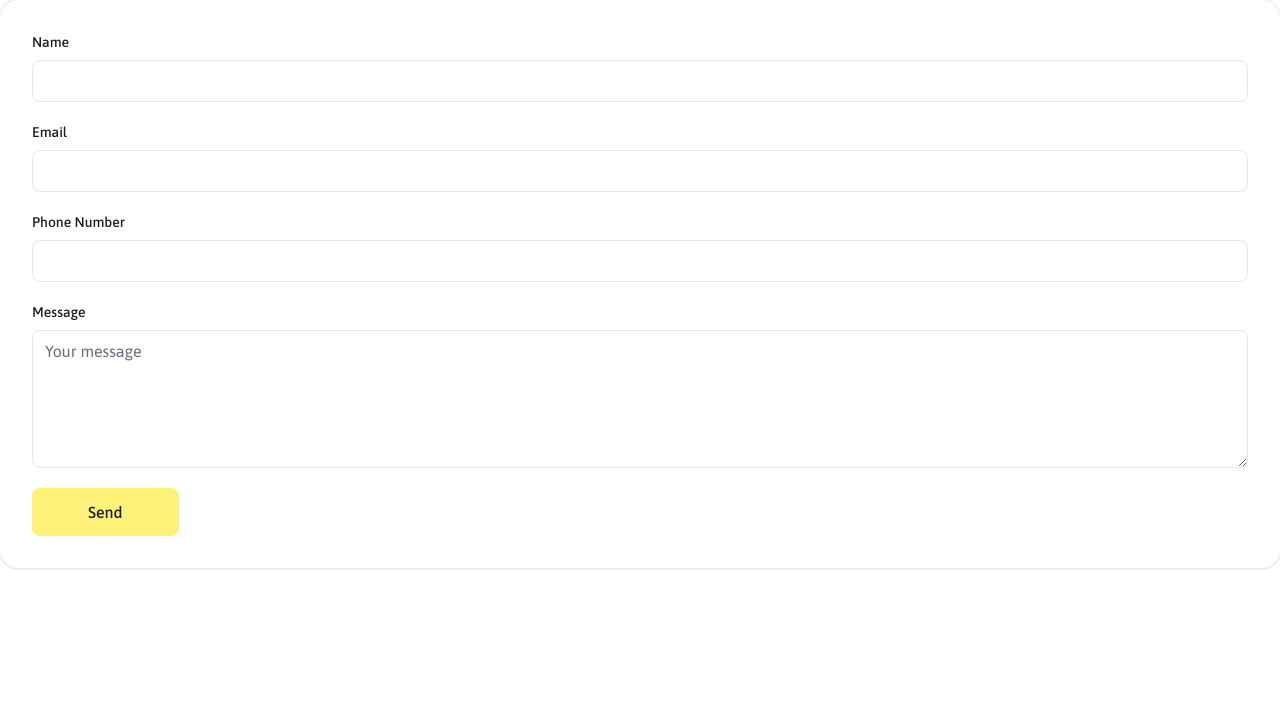
Scenario: ContactForm › shows an error message when the API returns ok:false
The width and height of the screenshot is (1280, 720).
Type "Jane Doe" into the field labelled "Name" at (640, 81), box [32,60,1248,102]
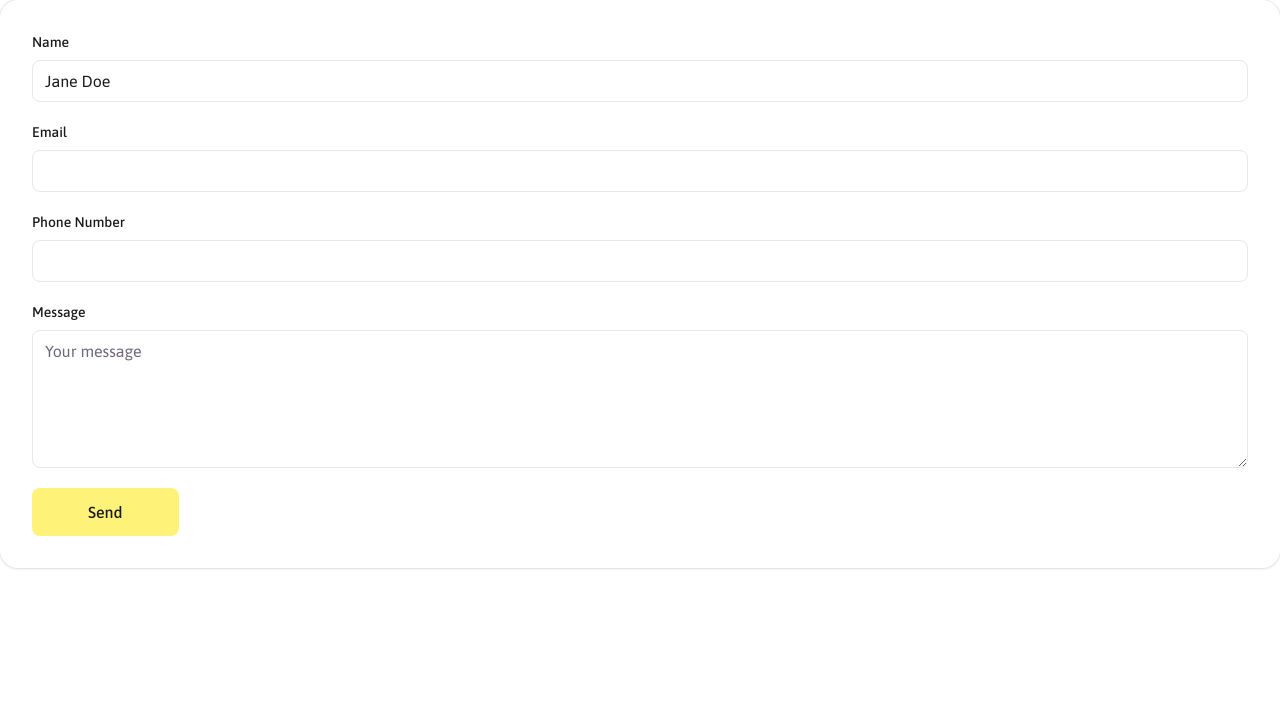
Type "jane@example.com" into the field labelled "Email" at (640, 171), box [32,150,1248,192]
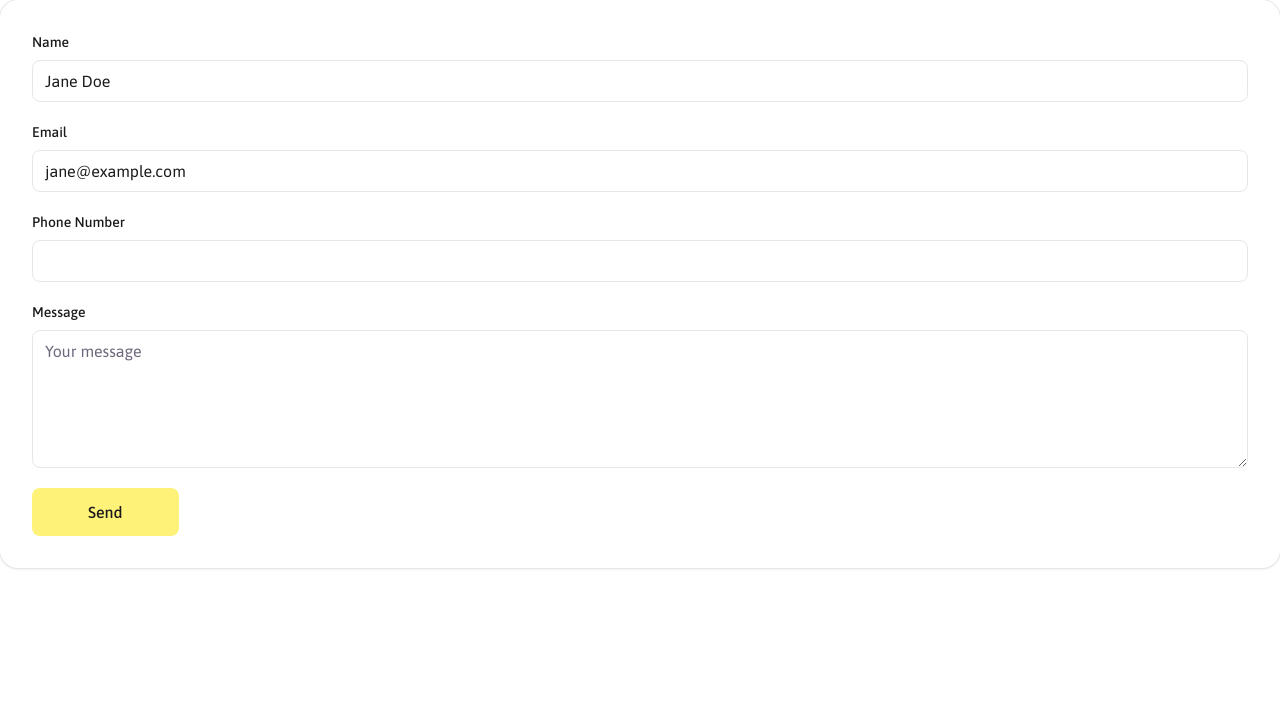
Type "07123456789" into the field labelled "Phone Number" at (640, 261), box [32,240,1248,282]
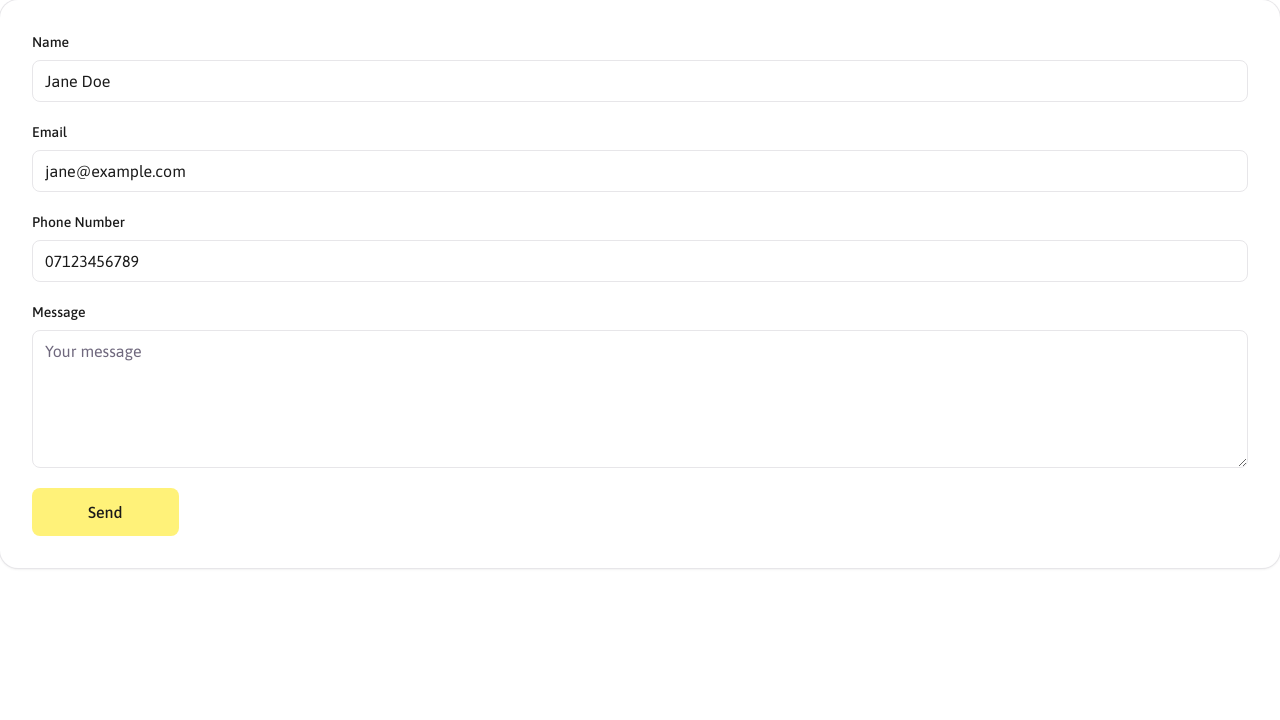
Type "Hello there" into the text box labelled "Message" at (640, 399), box [32,330,1248,468]
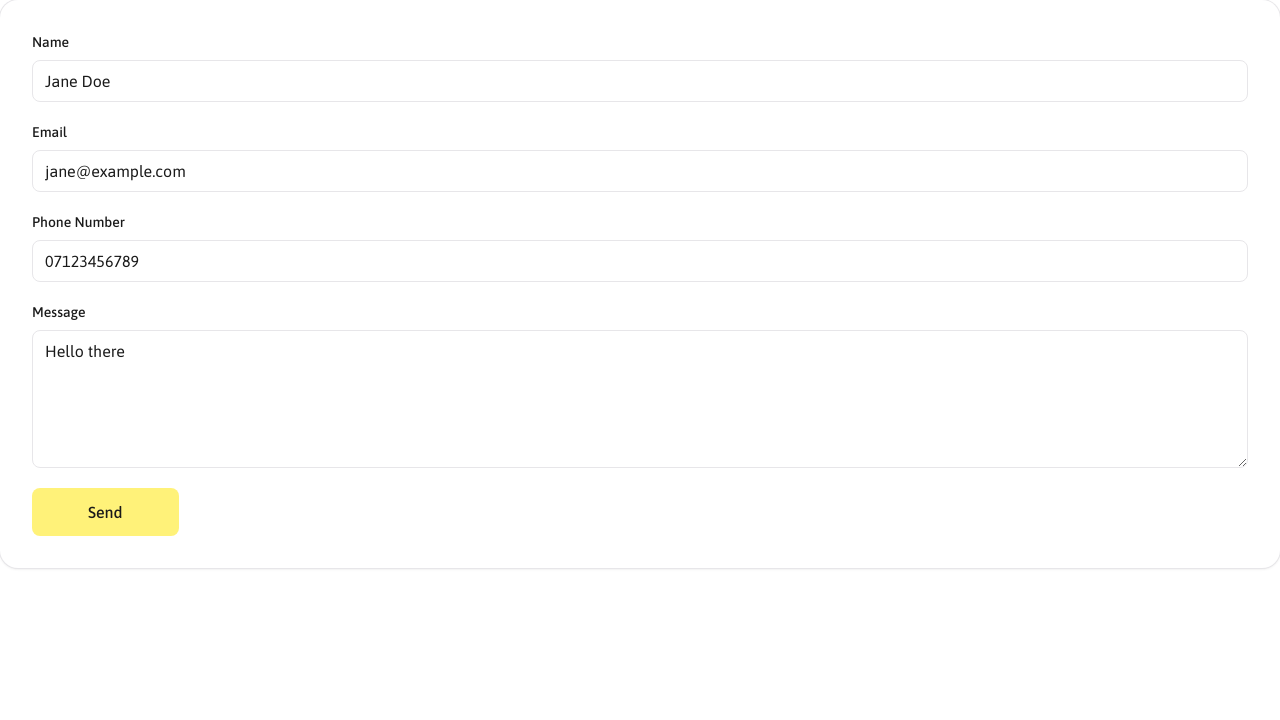
Submit the form
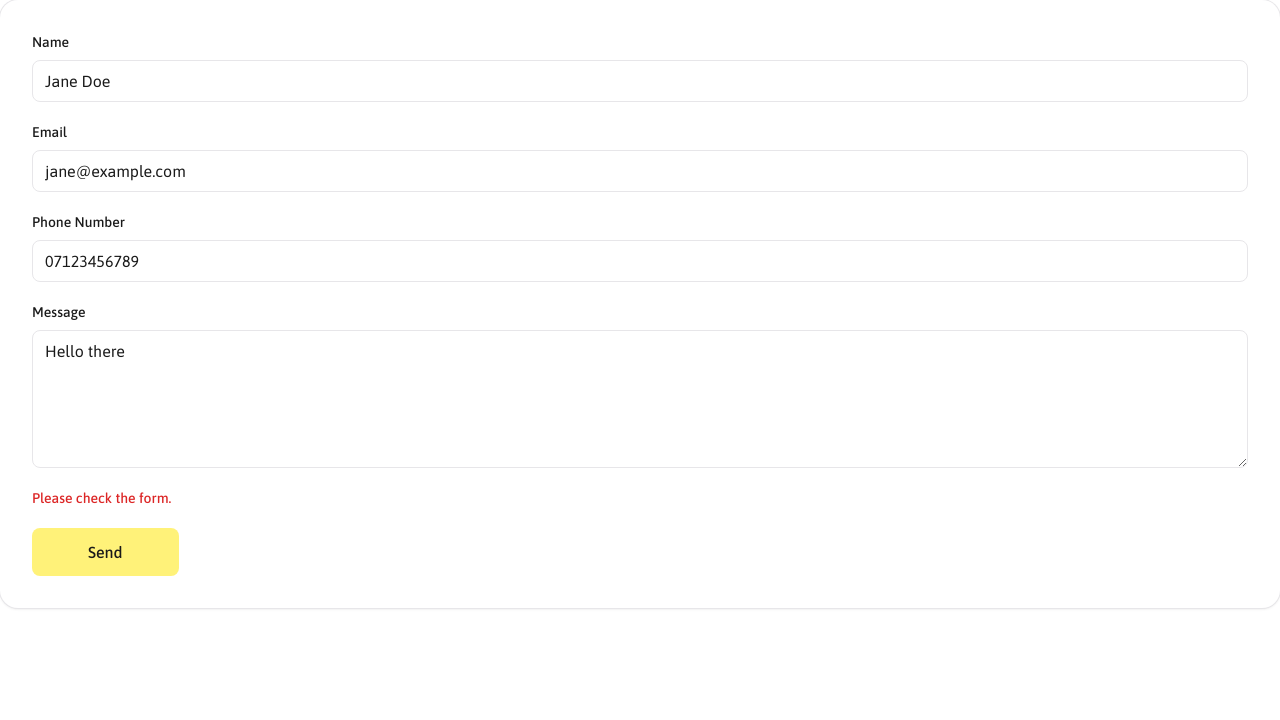
Check: the message reads "Please check the form.", box [32,490,171,506]
